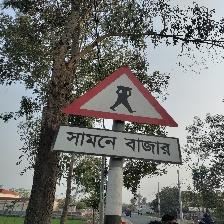Market-in-front: (54, 64, 182, 167)
